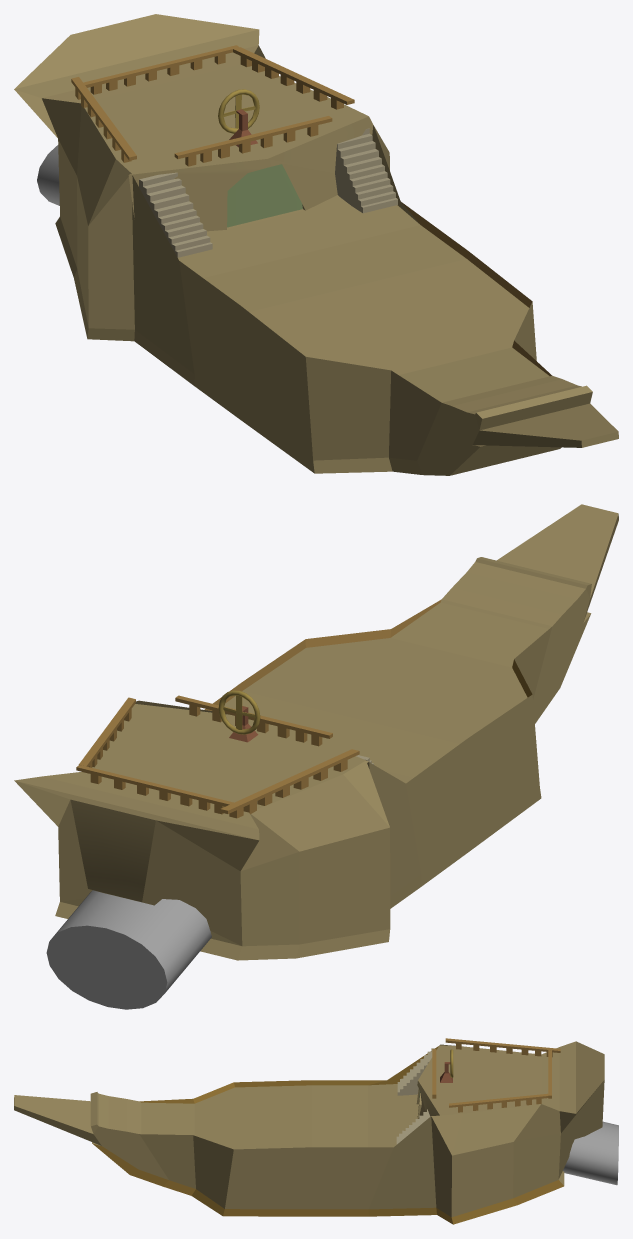
Rendered from Ship_v1.fbx.
The picture shows the model from 3 angles, top to bottom: view 1: azimuth 30°, elevation 25°; view 2: azimuth 150°, elevation 25°; view 3: azimuth 270°, elevation 25°; orthographic projection. The views are drawn at different scales.
Parts seen in each view (by area): view 1: Ship, Left_Stairs, Right_Stairs, Front_Barrier, Left_Barrier, Back_Barrier, Right_Barrier, Wheel, Thruster; view 2: Ship, Thruster, Right_Barrier, Back_Barrier, Front_Barrier, Wheel, Left_Barrier; view 3: Ship, Thruster, Right_Barrier, Left_Barrier, Right_Stairs, Left_Stairs, Wheel.
Part boxes in pixels (left/top/right/bottom): Ship: left=14, top=14, right=618, bottom=475; Left_Stairs: left=335, top=128, right=397, bottom=213; Right_Stairs: left=139, top=172, right=212, bottom=257; Front_Barrier: left=174, top=116, right=332, bottom=166; Left_Barrier: left=233, top=47, right=354, bottom=109; Back_Barrier: left=83, top=45, right=238, bottom=94; Right_Barrier: left=71, top=77, right=136, bottom=162; Wheel: left=218, top=89, right=259, bottom=147; Thruster: left=37, top=145, right=59, bottom=205; Ship: left=14, top=504, right=618, bottom=960; Thruster: left=46, top=890, right=211, bottom=1009; Right_Barrier: left=220, top=749, right=359, bottom=818; Back_Barrier: left=76, top=765, right=233, bottom=814; Front_Barrier: left=175, top=695, right=332, bottom=746; Wheel: left=218, top=690, right=260, bottom=742; Left_Barrier: left=78, top=697, right=135, bottom=773; Ship: left=14, top=1041, right=604, bottom=1224; Thruster: left=563, top=1121, right=618, bottom=1185; Right_Barrier: left=445, top=1038, right=560, bottom=1057; Left_Barrier: left=449, top=1093, right=548, bottom=1112; Right_Stairs: left=397, top=1048, right=434, bottom=1095; Left_Stairs: left=396, top=1109, right=430, bottom=1144; Wheel: left=440, top=1049, right=453, bottom=1082.
Bounding box in the file's own units: 33.3 × 23.04 × 95.35.
